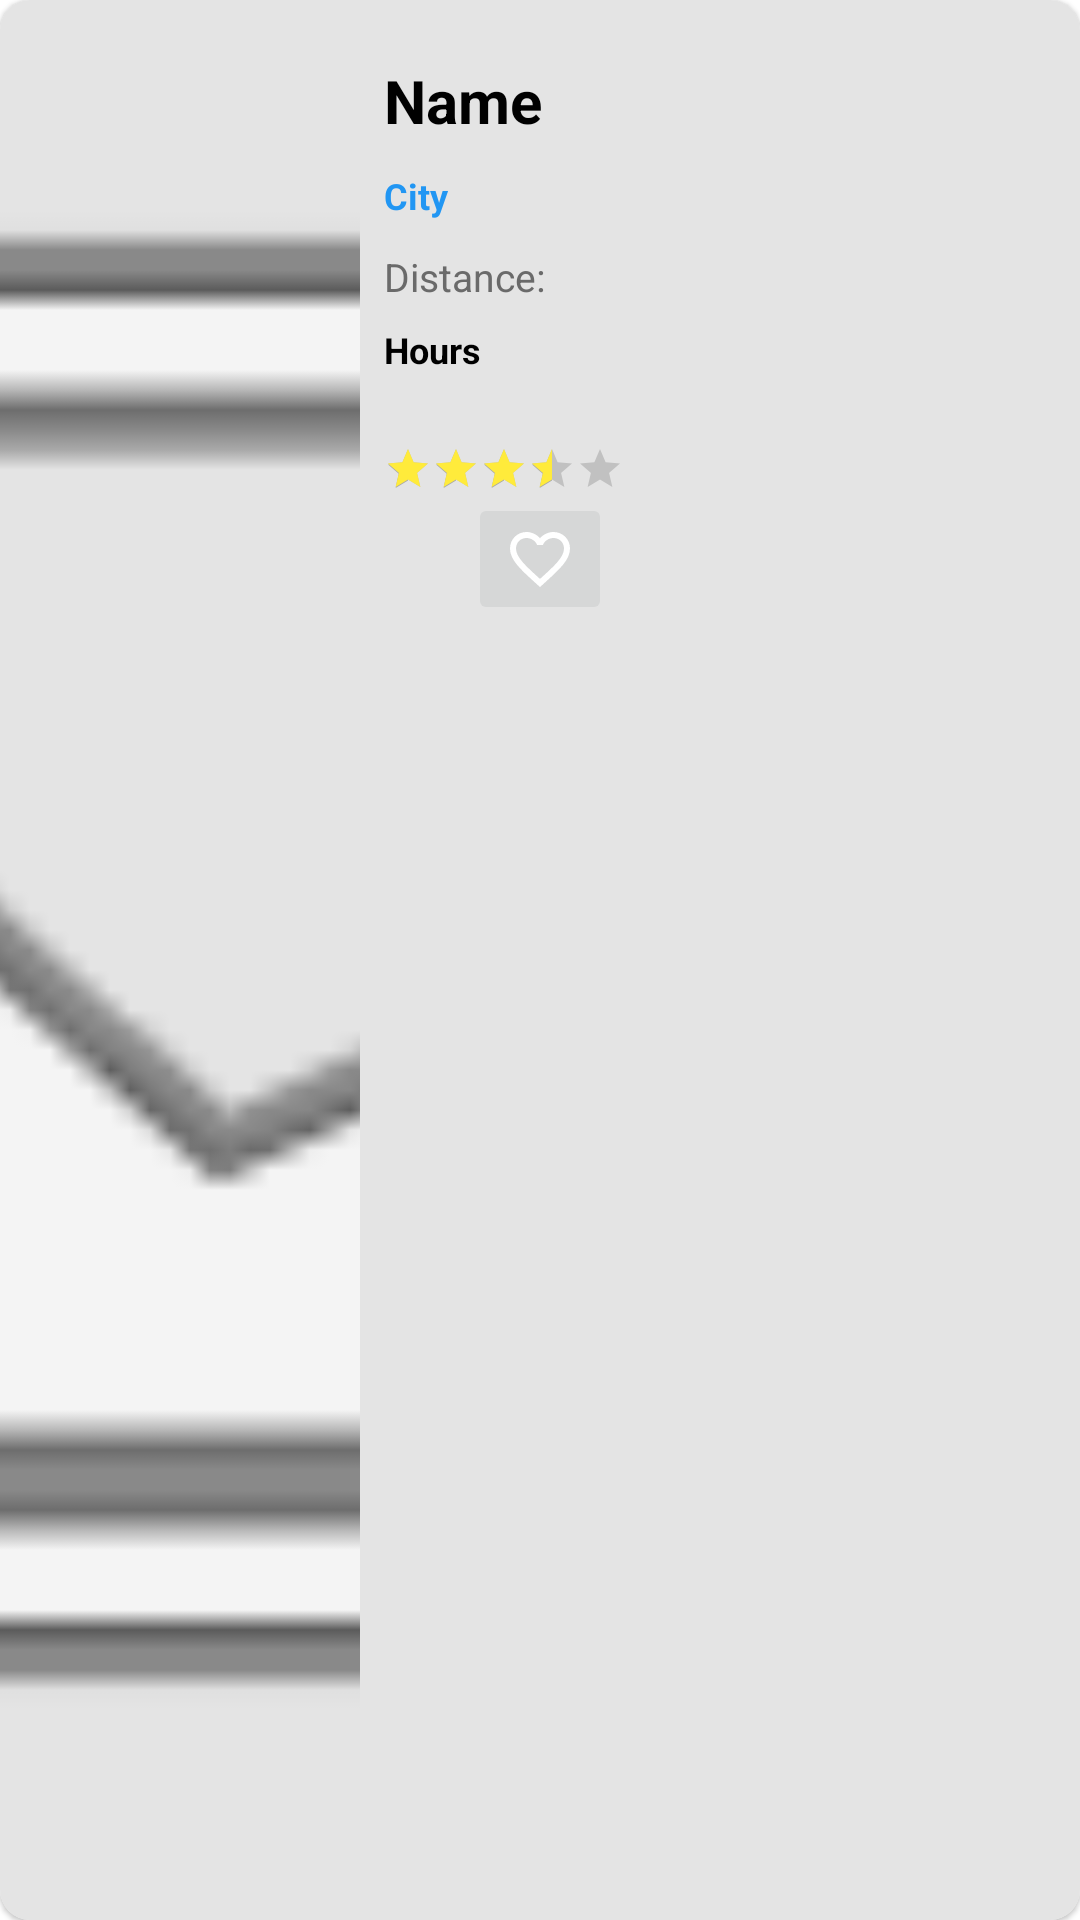

Where icons sit on this 1080×1920 app screen, as (left=x1, top=y1, right=x2, bottom=y2):
favorite border: (left=480, top=511, right=600, bottom=607)
